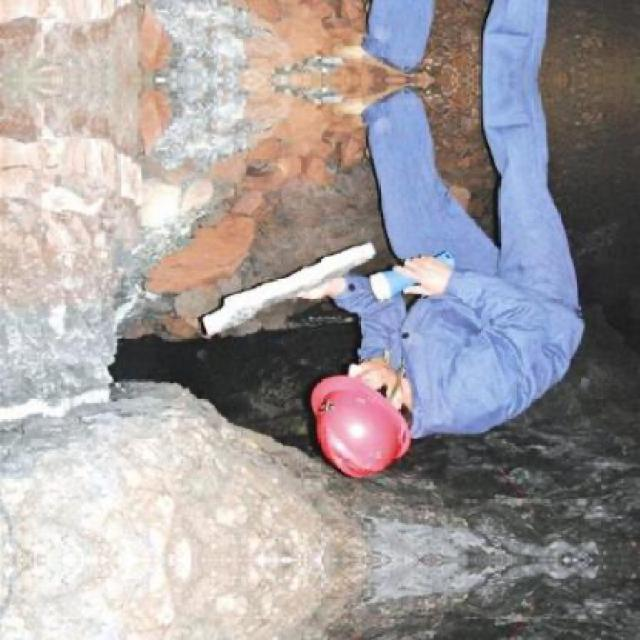con casco: (302, 363, 430, 478)
